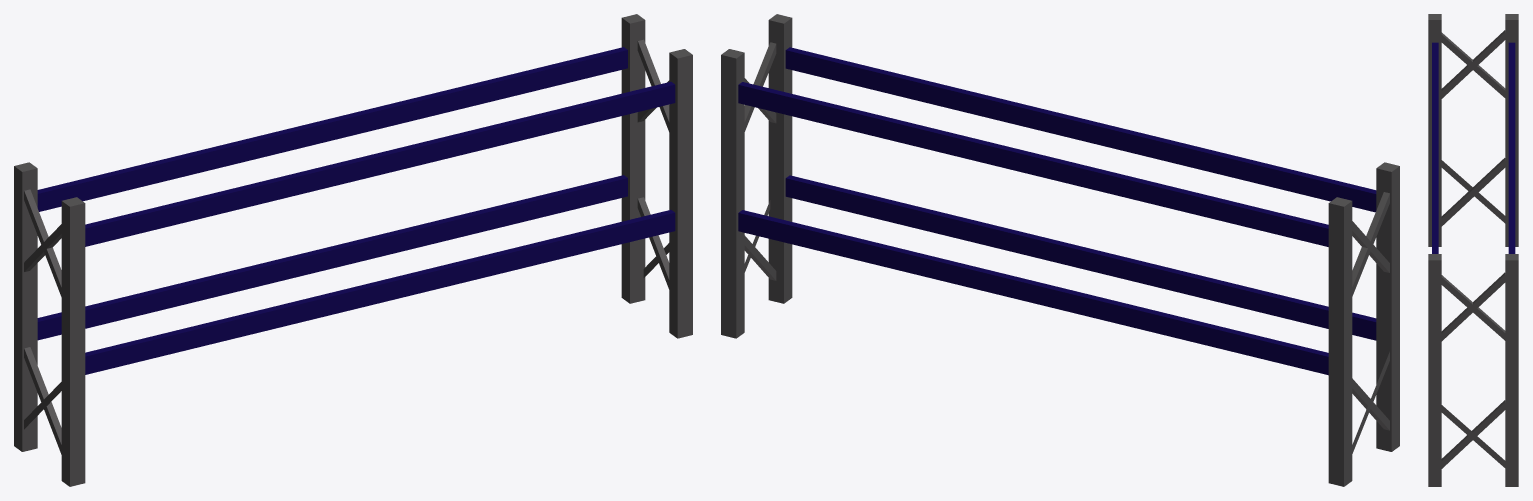
The model's file is big_storage.glb.
The picture shows the model from 3 angles, left to right: view 1: azimuth 30°, elevation 25°; view 2: azimuth 150°, elevation 25°; view 3: azimuth 270°, elevation 25°; orthographic projection. The views are drawn at different scales.
Parts seen in each view (by area): view 1: Big_Storage; view 2: Big_Storage; view 3: Big_Storage.
Part boxes in pixels (<box>): Big_Storage: <box>14,14,692,486</box>; Big_Storage: <box>721,14,1399,486</box>; Big_Storage: <box>1428,14,1518,486</box>.
Size of the model in its own units: 10.31 by 4.43 by 1.6.
Materials: 1 (1 with a texture image).
